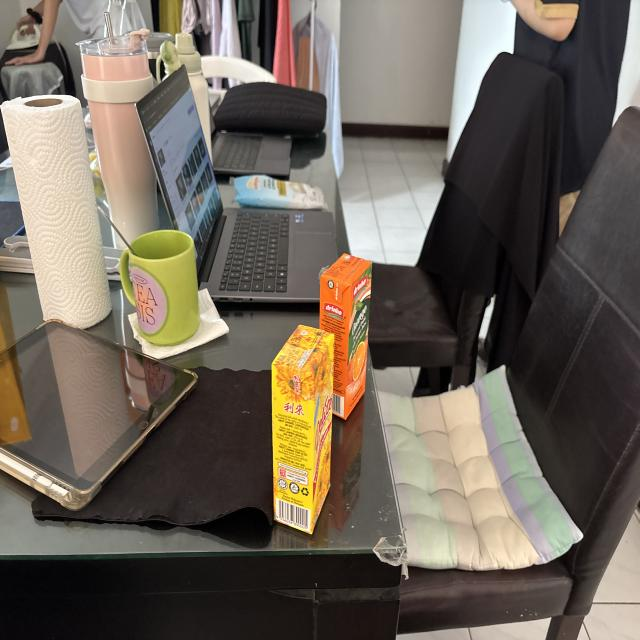drink_carton: (265, 317, 341, 543), (313, 241, 374, 429)
